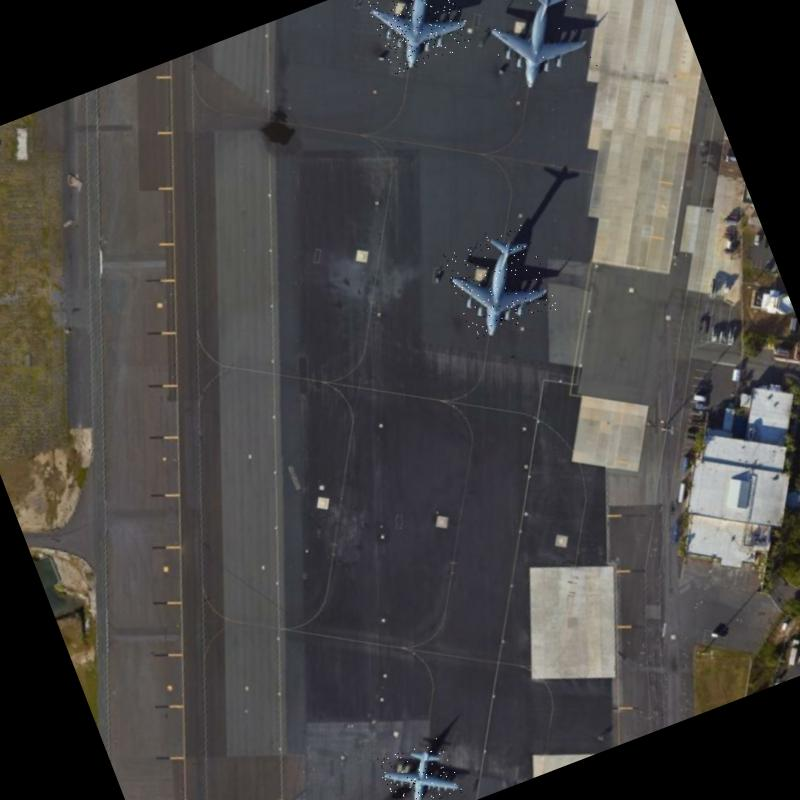A2: (374, 733, 462, 800)
A3: (440, 222, 558, 340), (474, 0, 598, 98), (361, 0, 474, 75)
